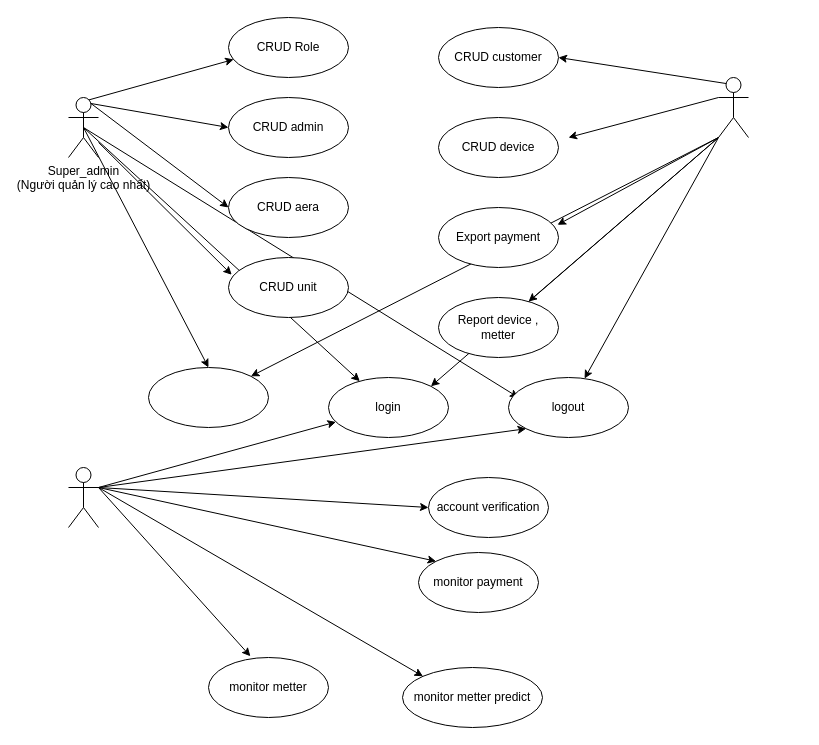
The diagram is 819 pixels wide and 745 high, and some of its shapes have lost their labels. Each missing label, with the box of its shape:
admin (Người quản lý cấp vùng): (718, 76, 748, 138)
customer (Hộ gia đình): (68, 466, 98, 528)
update account: (148, 366, 268, 428)
